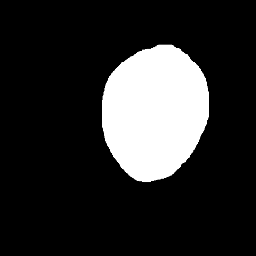mass: (102, 42, 211, 177)
